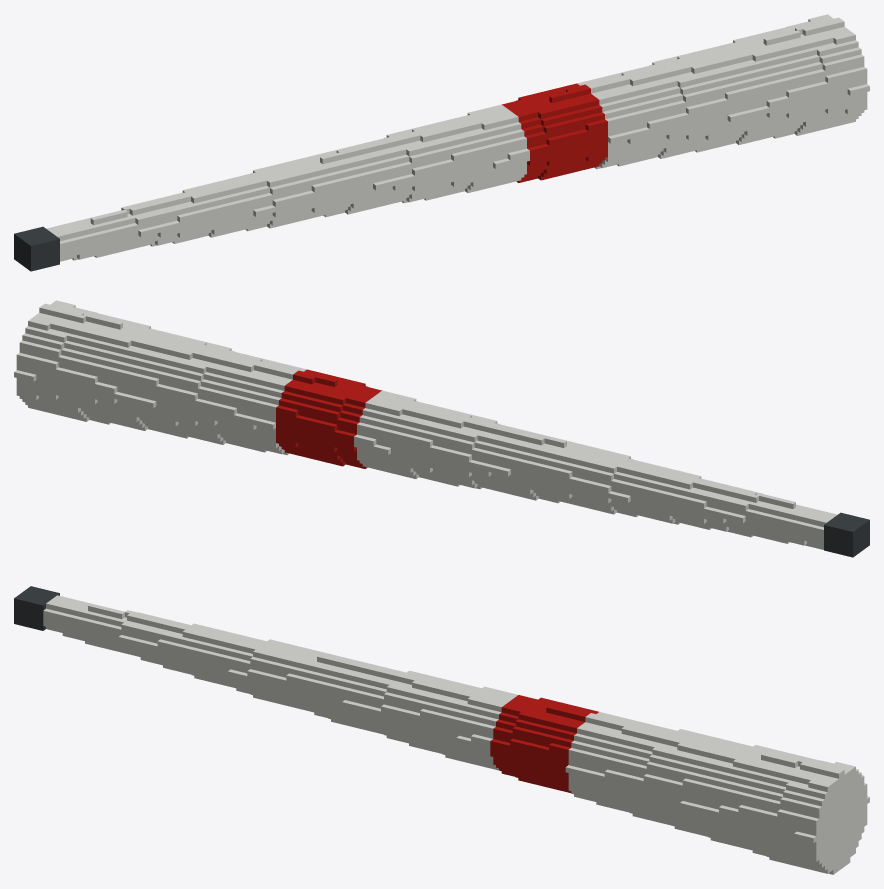
File: air_ambulance_tail_boom.glb
3 renders of one model, top to bottom at view 1: azimuth 30°, elevation 25°; view 2: azimuth 150°, elevation 25°; view 3: azimuth 330°, elevation 25°, orthographic.
Visible parts, largest first — view 1: body:compound; view 2: body:compound; view 3: body:compound.
Part boxes in pixels (x1,y1,x2,y2): body:compound: (14, 14, 869, 271); body:compound: (14, 300, 869, 557); body:compound: (14, 586, 869, 874).
Bounding box in the file's own units: 5.25 × 0.5938 × 0.625.
